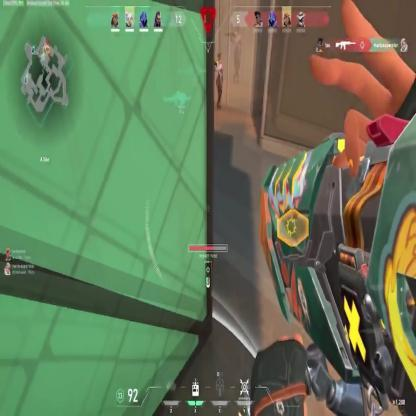enemy: (214, 51, 224, 110)
enemy_head: (216, 52, 222, 64)
